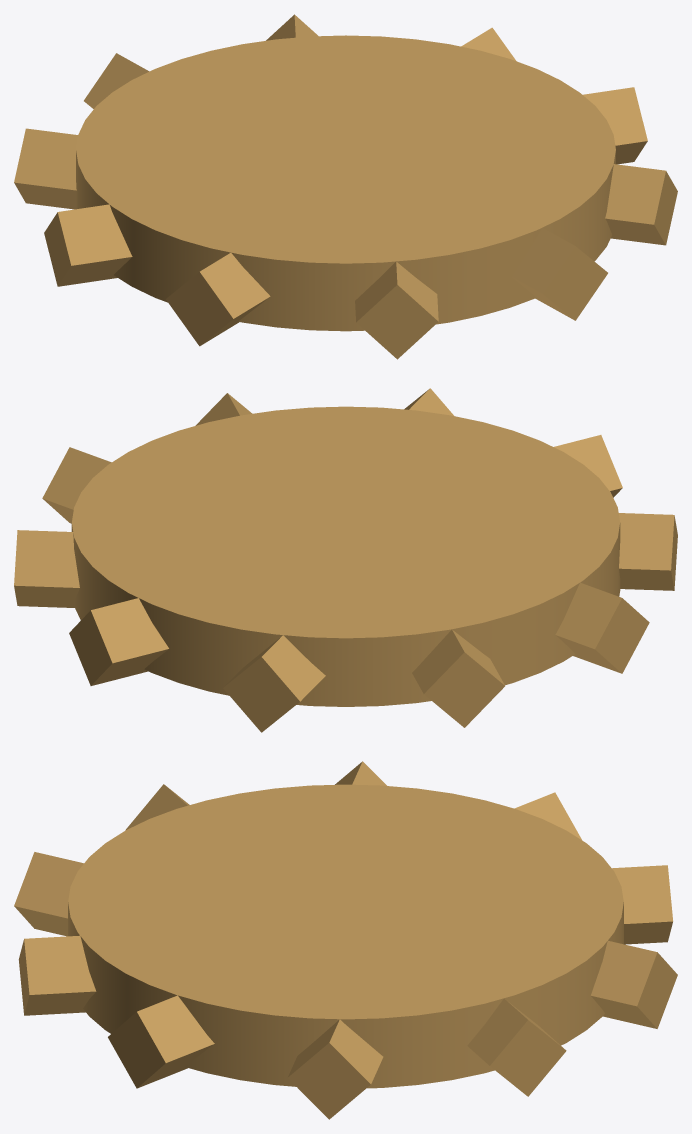
Rendered from Atelier.glb.
3 views of the same model, one above another, from view 1: azimuth 30°, elevation 25°; view 2: azimuth 150°, elevation 25°; view 3: azimuth 270°, elevation 25° (orthographic). The views are drawn at different scales.
Parts seen in each view (by area): view 1: Ratchet hub, Ratchet tooth (×10); view 2: Ratchet hub, Ratchet tooth (×10); view 3: Ratchet hub, Ratchet tooth (×10).
Part boxes in pixels (x1=…): Ratchet hub: x1=76, y1=35, x2=615, y2=331; Ratchet tooth (×10): x1=14, y1=14, x2=677, y2=359; Ratchet hub: x1=71, y1=406, x2=620, y2=706; Ratchet tooth (×10): x1=14, y1=388, x2=677, y2=732; Ratchet hub: x1=68, y1=784, x2=623, y2=1088; Ratchet tooth (×10): x1=14, y1=761, x2=677, y2=1119.
Bounding box in the file's own units: 0.4172 × 0.052 × 0.4062.
